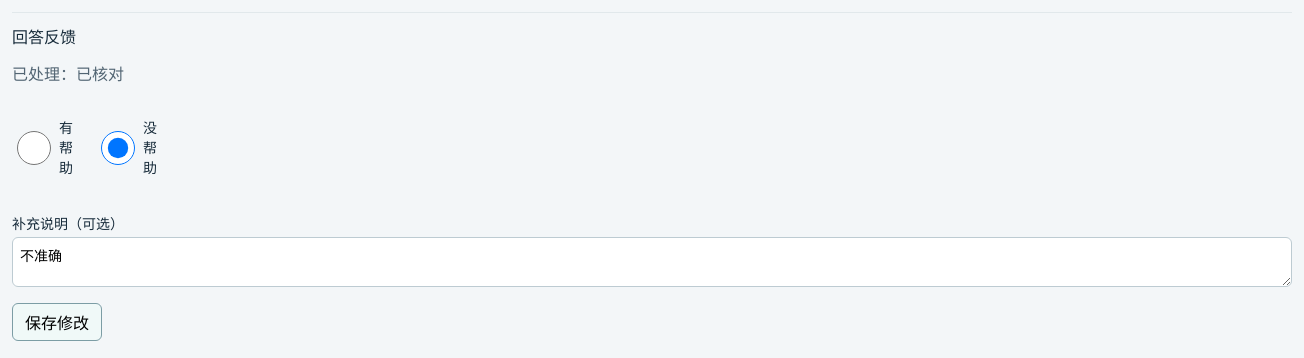
Test: loads persisted feedback, edits it once and shows reopened state
The image size is (1304, 358).
Replace the text in the text box labelled "补充说明（可选）" with "仍不准确" at (652, 262), box [12,237,1292,287]
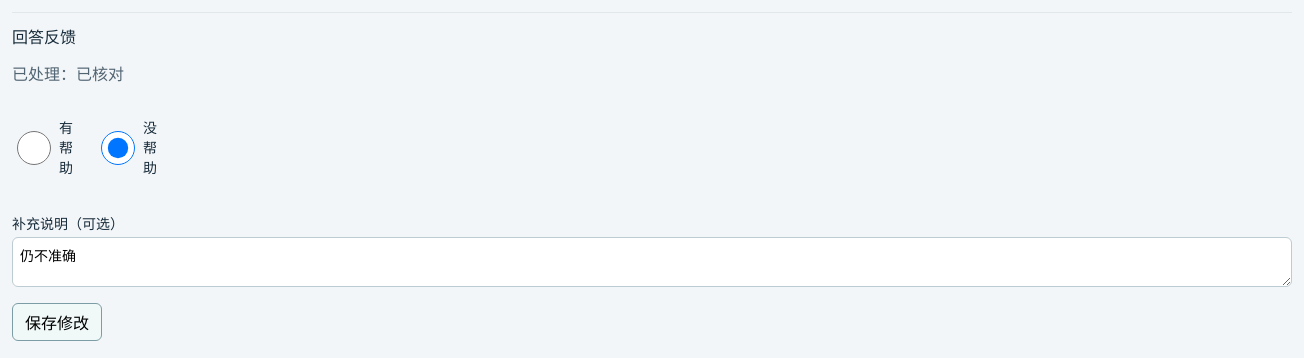
Click the button with aria-label "保存反馈修改" at (57, 322), box [12,303,102,341]
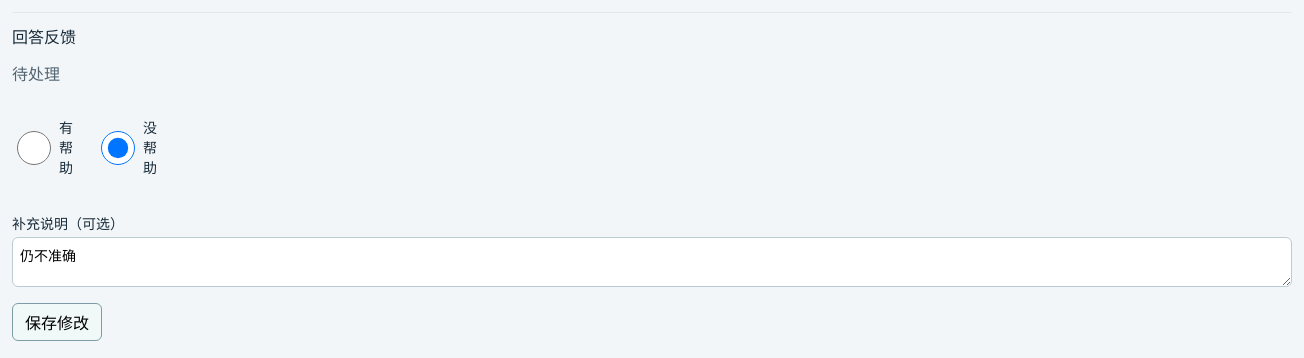
expect the text "待处理" is shown: met, box [12,64,60,84]
expect the text "已核对" is gone: met
